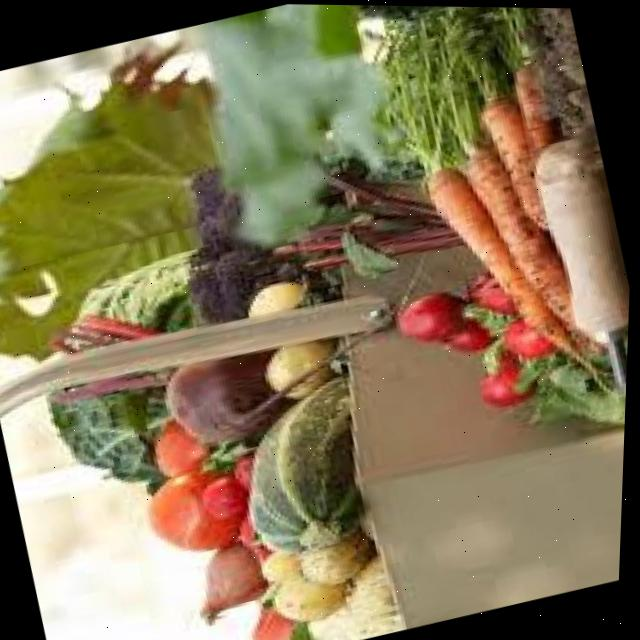Wet: (0, 0, 640, 640), (0, 0, 482, 640), (308, 4, 640, 524)
